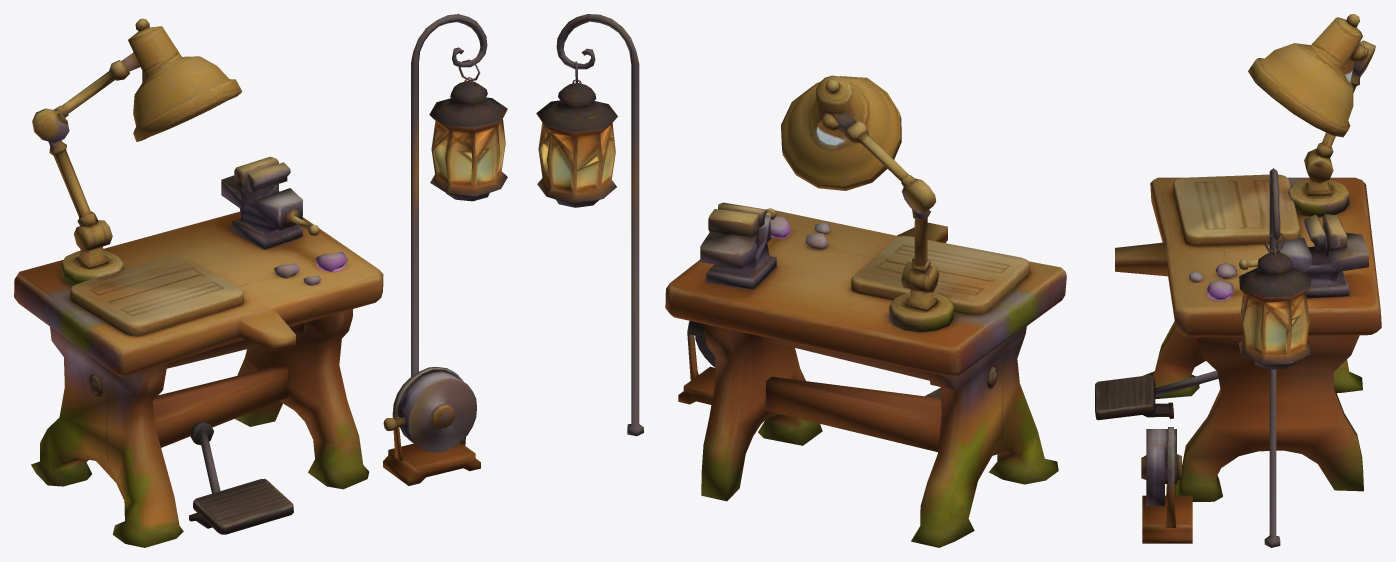
File: station_jeweler_bench.glb
3 renders of one model, left to right at view 1: azimuth 30°, elevation 25°; view 2: azimuth 150°, elevation 25°; view 3: azimuth 270°, elevation 25°, orthographic. The views are drawn at different scales.
Parts seen in each view (by area): view 1: tripo_node_58219e29-714f-4138-ab03-968999cb34b6; view 2: tripo_node_58219e29-714f-4138-ab03-968999cb34b6; view 3: tripo_node_58219e29-714f-4138-ab03-968999cb34b6.
Boxes of the visible parts, x1,y1,x2,y2 form: tripo_node_58219e29-714f-4138-ab03-968999cb34b6: (14, 14, 507, 547); tripo_node_58219e29-714f-4138-ab03-968999cb34b6: (536, 14, 1066, 547); tripo_node_58219e29-714f-4138-ab03-968999cb34b6: (1095, 14, 1381, 547).
Bounding box in the file's own units: 1.96 × 1.8 × 1.12.
Materials: 1 (1 with a texture image).
